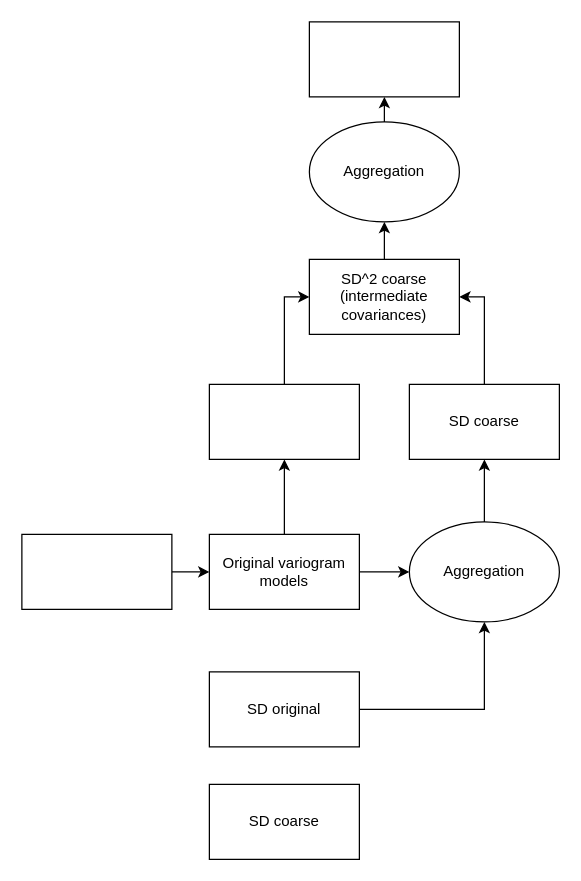
This 581x881 diagram has some shape labels left out. Here are the shapes that lost their labels. From the top down, the centre of each, then its label:
At point (383, 59): "SD pantropics".
At point (283, 421): "Re-fitted variograms (convoluted)".
At point (96, 571): "Plot-level AGB residuals".
